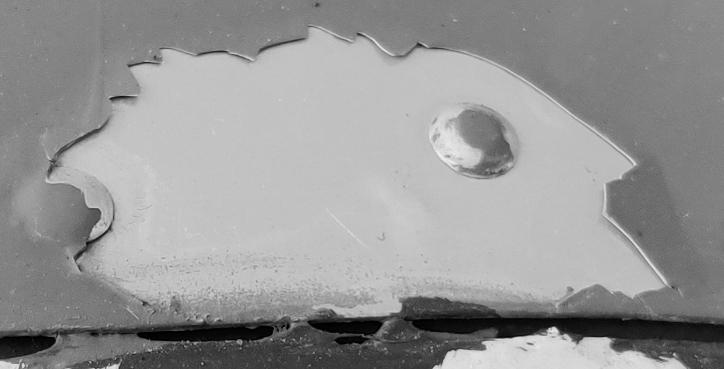paint-off: (1, 1, 724, 369)
